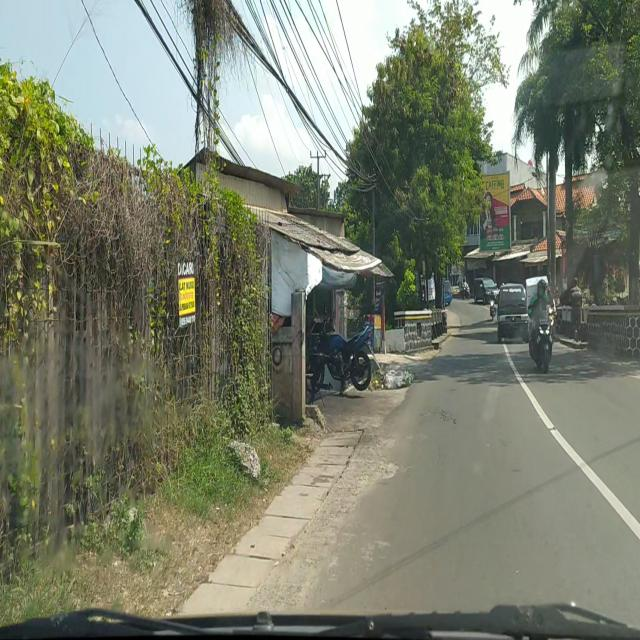Drain Hole: (426, 403, 458, 428)
